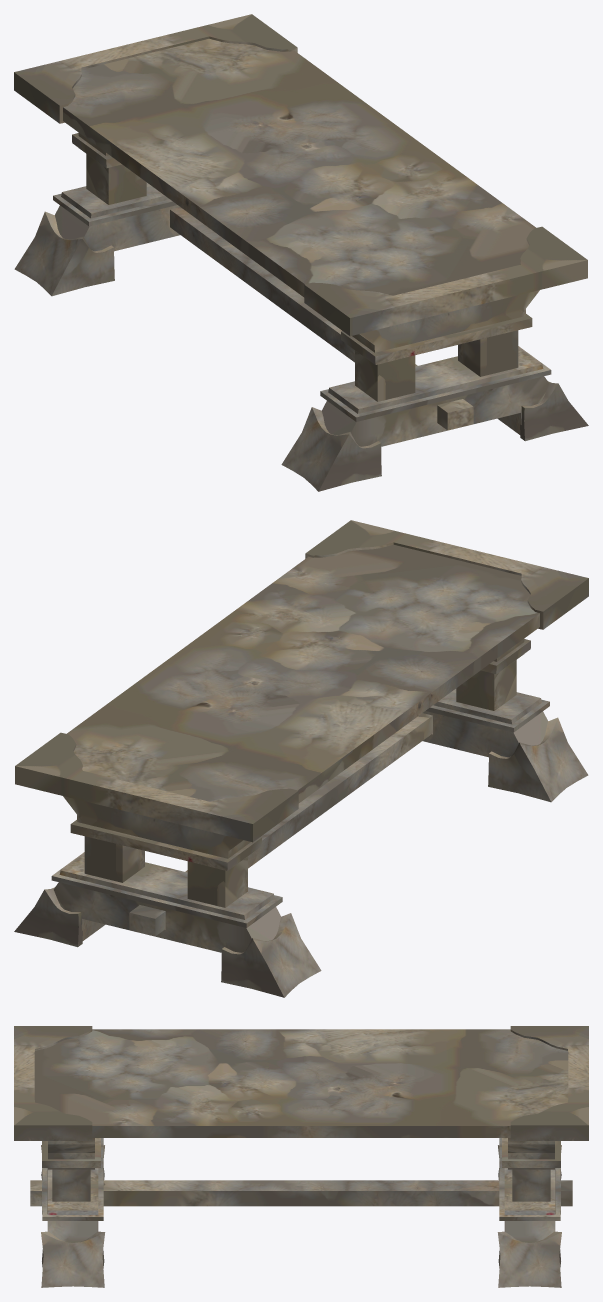
File: Table.fbx
3 renders of one model, top to bottom at view 1: azimuth 30°, elevation 25°; view 2: azimuth 150°, elevation 25°; view 3: azimuth 270°, elevation 25°, orthographic. The views are drawn at different scales.
Visible parts, largest first — view 1: Mesh_0; view 2: Mesh_0; view 3: Mesh_0.
Part boxes in pixels (left/top/right/bottom): Mesh_0: left=14, top=14, right=588, bottom=491; Mesh_0: left=14, top=520, right=588, bottom=997; Mesh_0: left=14, top=1026, right=588, bottom=1287.
Size of the model in its own units: 168 by 108 by 361.
